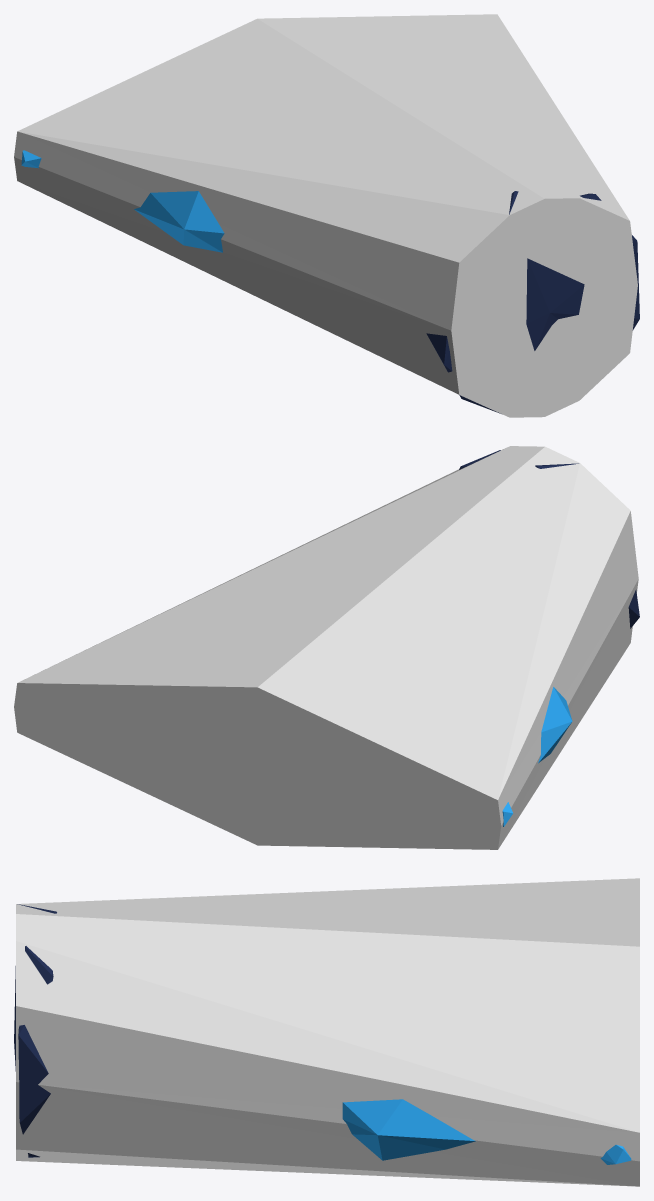
File: psychoterapy.fbx
3 renders of one model, top to bottom at view 1: azimuth 30°, elevation 25°; view 2: azimuth 150°, elevation 25°; view 3: azimuth 270°, elevation 25°, orthographic. The views are drawn at different scales.
Parts seen in each view (by area): view 1: Physx, Staff, Wings; view 2: Physx, Wings; view 3: Physx, Wings, Staff.
Part boxes in pixels (left/top/right/bottom): Physx: left=14, top=14, right=637, bottom=417; Staff: left=426, top=191, right=639, bottom=413; Wings: left=21, top=150, right=224, bottom=252; Physx: left=14, top=446, right=638, bottom=849; Wings: left=502, top=687, right=572, bottom=826; Physx: left=16, top=878, right=639, bottom=1186; Wings: left=342, top=1099, right=631, bottom=1164; Staff: left=14, top=904, right=56, bottom=1157.
Bounding box in the file's own units: 19.6 × 20.06 × 8.38.
